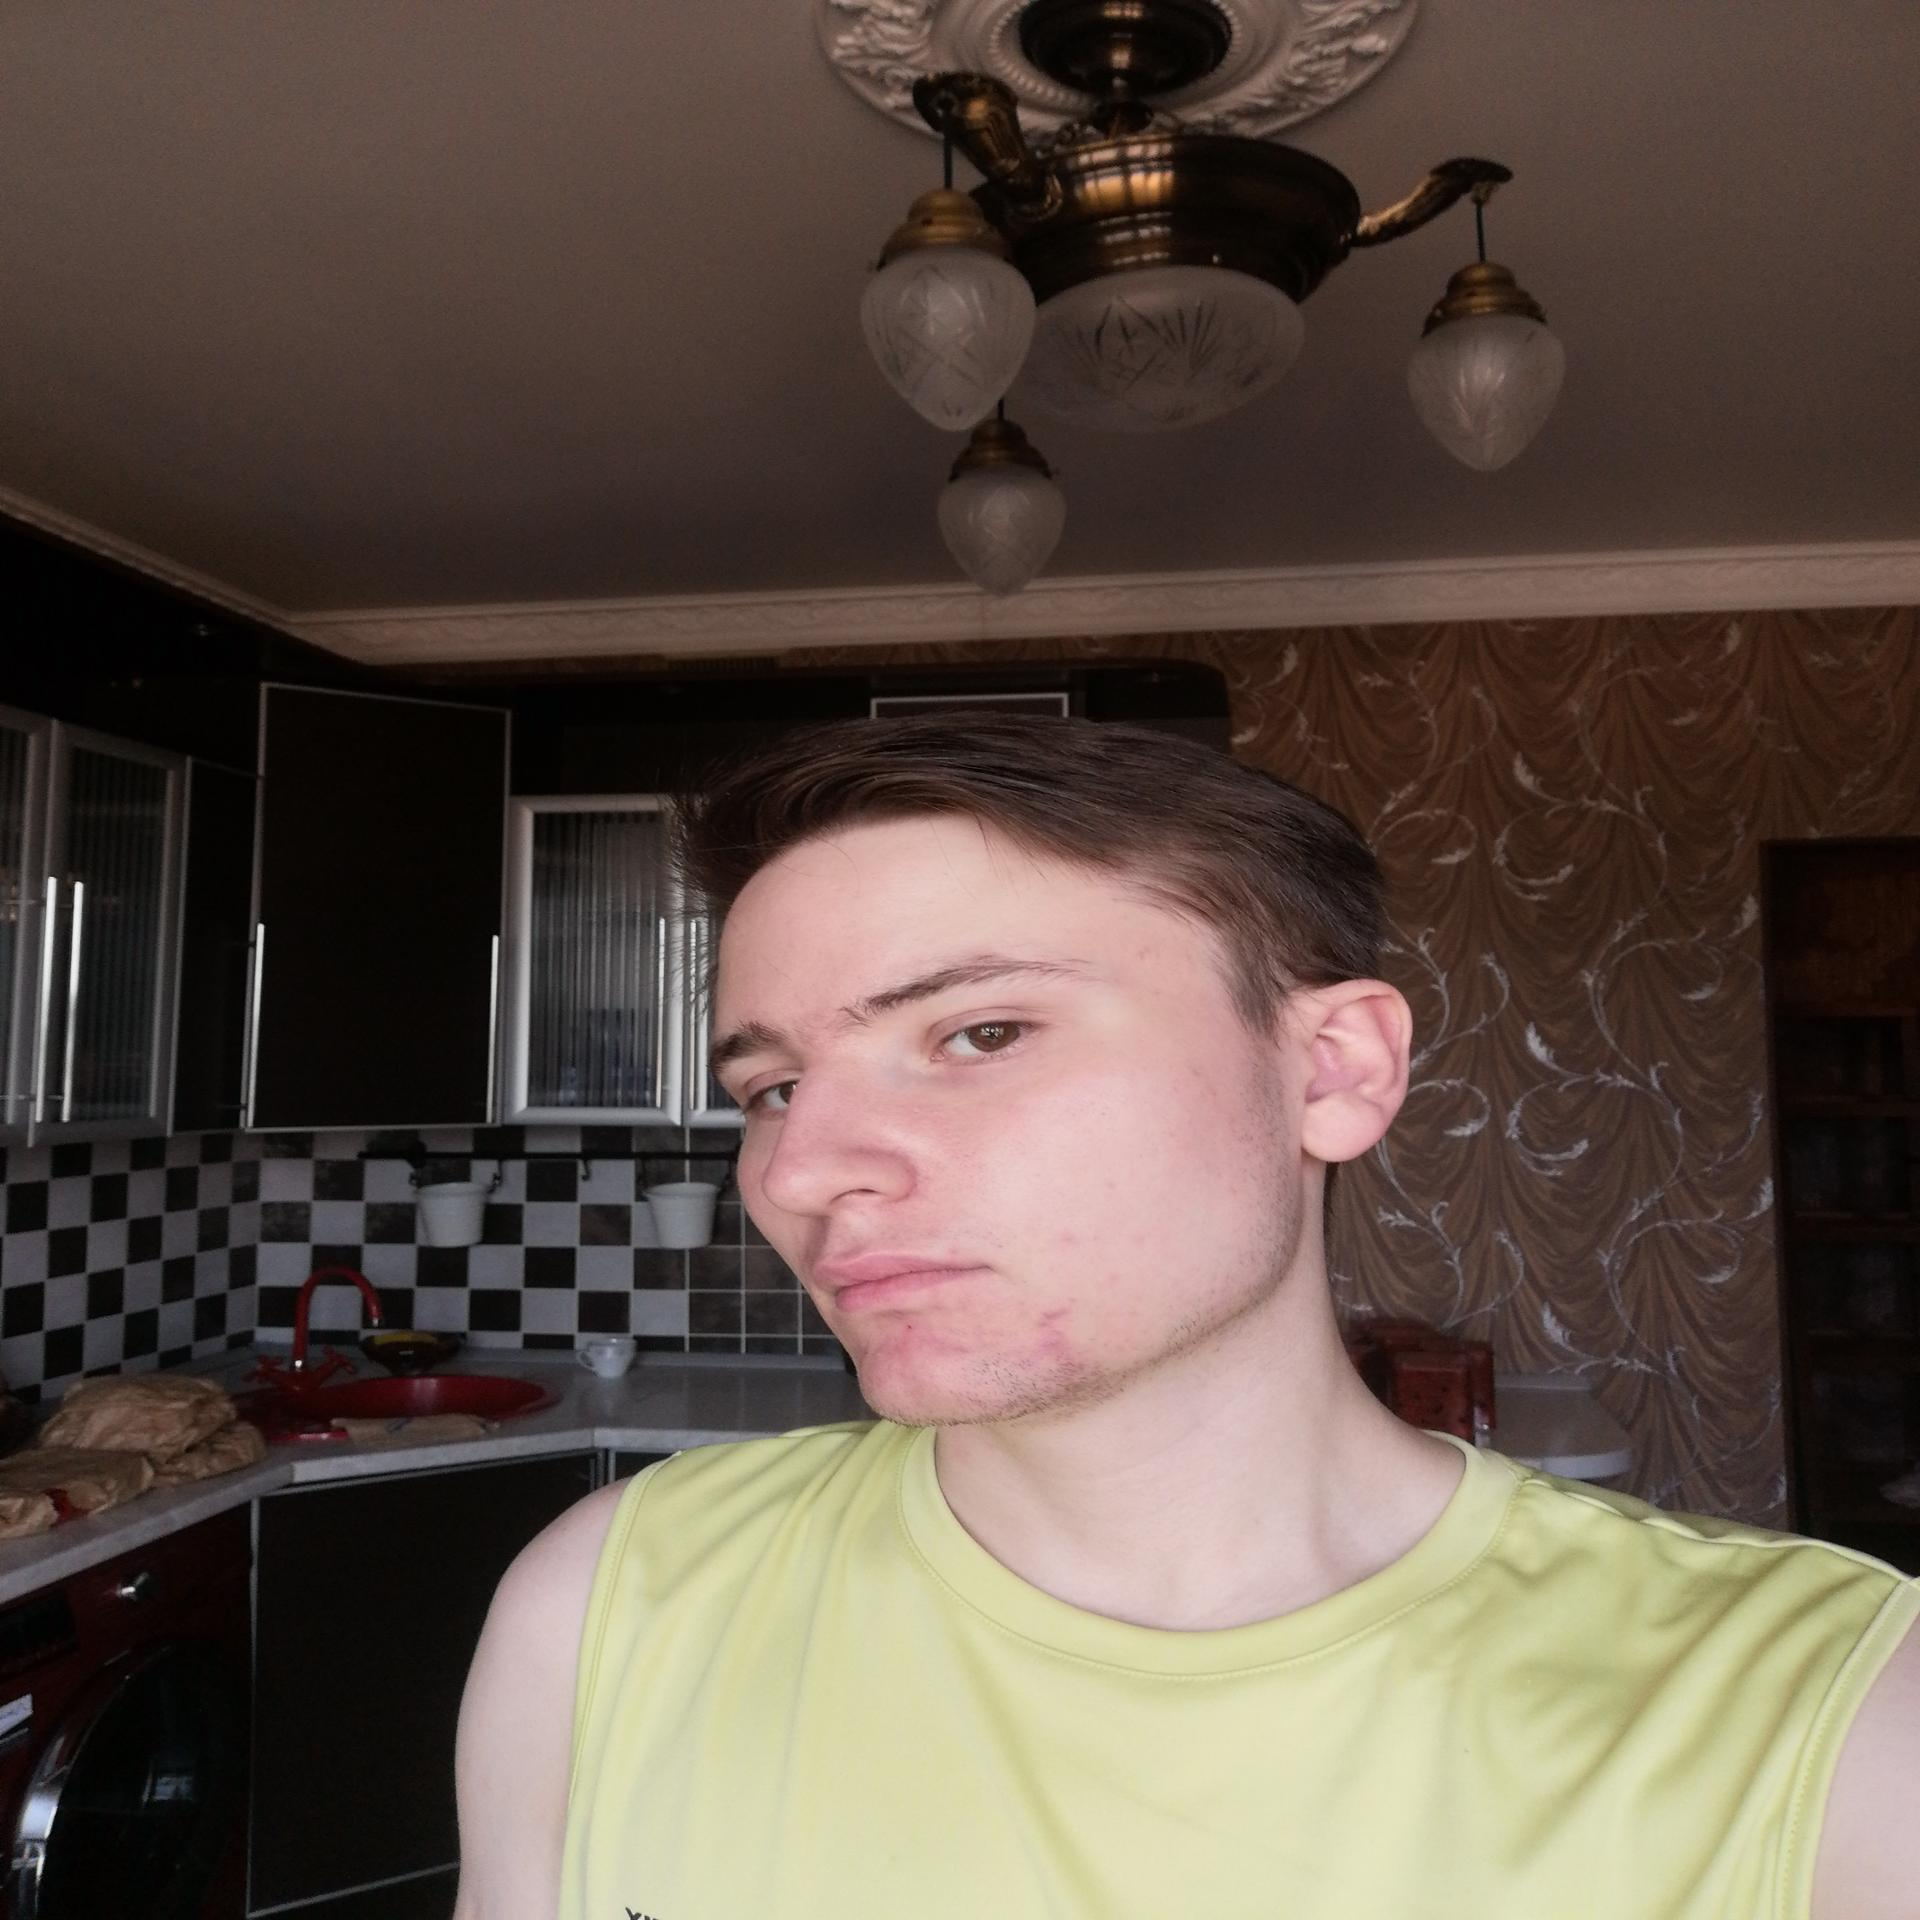Acne: (1023, 1327, 1069, 1370), (918, 1333, 967, 1359), (1034, 1303, 1073, 1327), (869, 1343, 911, 1361), (1122, 1233, 1152, 1252), (1101, 1269, 1120, 1291), (1055, 1231, 1078, 1248), (1136, 942, 1152, 964), (944, 1243, 965, 1257), (900, 1317, 916, 1335)
Englarged Pores: (918, 1101, 1027, 1171)
